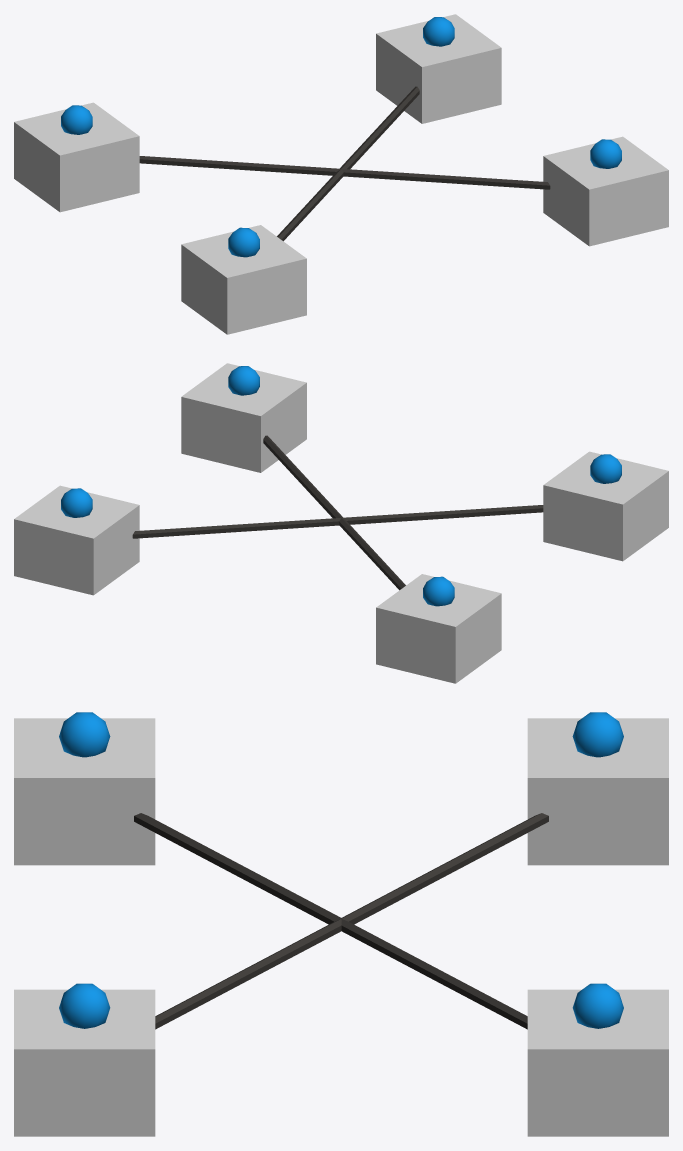
File: D4_live_sensors_on_every_system.glb
3 views of the same model, one above another, from view 1: azimuth 30°, elevation 25°; view 2: azimuth 150°, elevation 25°; view 3: azimuth 270°, elevation 25° (orthographic). The views are drawn at different scales.
Visible parts, largest first — view 1: sensor_white, wire_ink, led_blue; view 2: sensor_white, wire_ink, led_blue; view 3: sensor_white, wire_ink, led_blue.
Part boxes in pixels (x1,y1,x2,y2): sensor_white: (14, 14, 668, 334); wire_ink: (139, 86, 550, 241); led_blue: (61, 17, 621, 257); sensor_white: (14, 363, 668, 683); wire_ink: (132, 435, 543, 590); led_blue: (61, 366, 621, 606); sensor_white: (14, 718, 668, 1136); wire_ink: (134, 813, 548, 1029); led_blue: (59, 712, 623, 1028).
Bounding box in the file's own units: 1.22 × 0.21 × 1.02.
